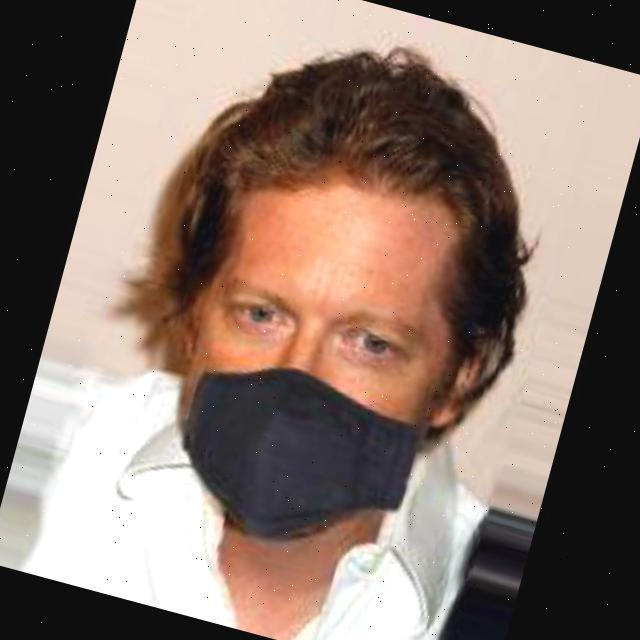suspicion: (91, 21, 534, 574)
